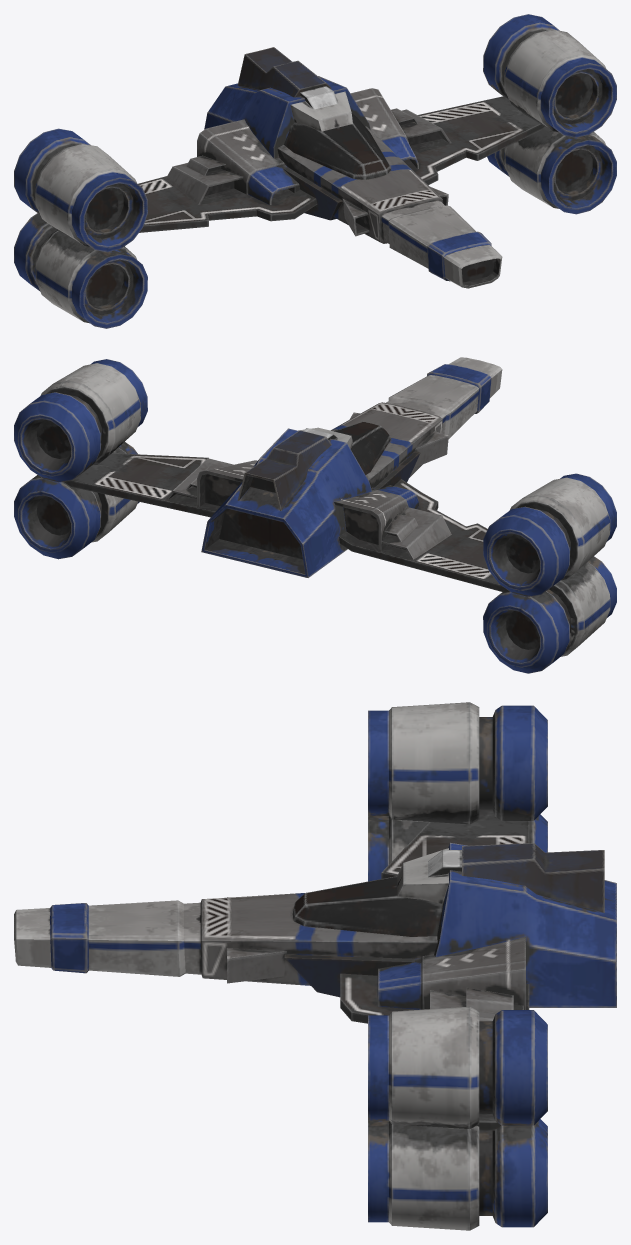
The model's file is spitfire.glb.
3 renders of one model, top to bottom at view 1: azimuth 30°, elevation 25°; view 2: azimuth 150°, elevation 25°; view 3: azimuth 270°, elevation 25°, orthographic. The views are drawn at different scales.
Bounding box in the file's own units: 10.52 × 3.06 × 7.53.
Materials: 1 (1 with a texture image).
